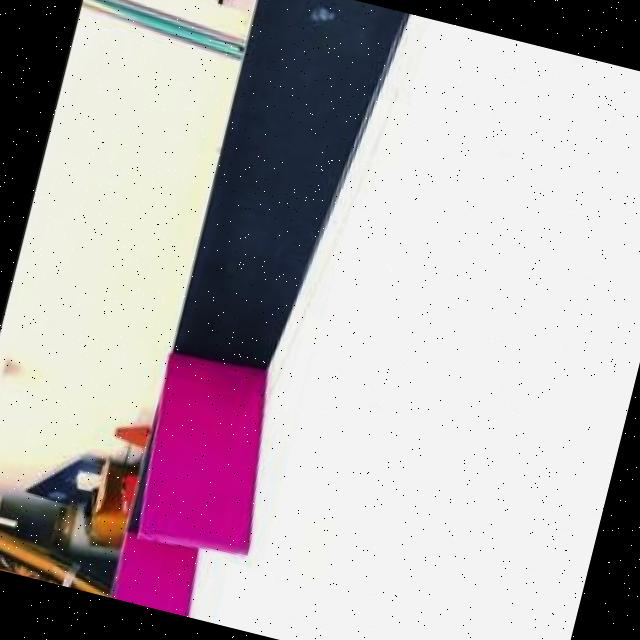xparking: (140, 353, 283, 554), (114, 540, 202, 616)
